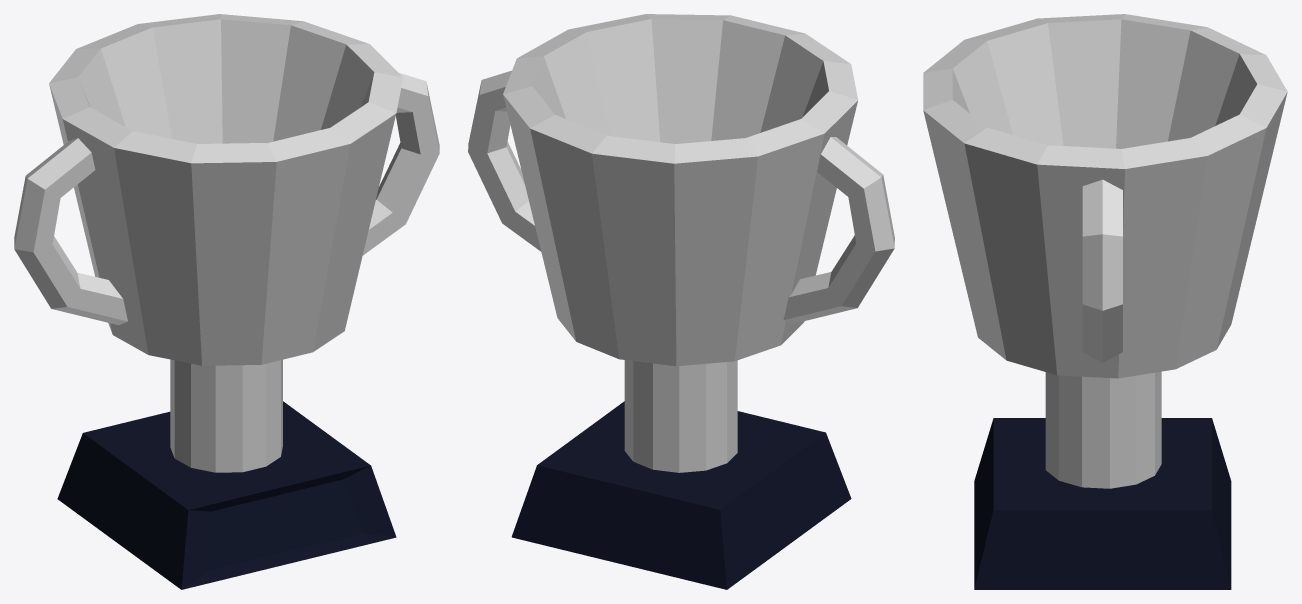
Rendered from SilverPoklaer.fbx.
The picture shows the model from 3 angles, left to right: view 1: azimuth 30°, elevation 25°; view 2: azimuth 150°, elevation 25°; view 3: azimuth 270°, elevation 25°; orthographic projection. The views are drawn at different scales.
Visible parts, largest first — view 1: Cylinder.001, Cube, BézierCurve; view 2: Cylinder.001, Cube, BézierCurve; view 3: Cylinder.001, Cube, BézierCurve.
Boxes of the visible parts, left/top/right/bottom form: Cylinder.001: left=49, top=14, right=403, bottom=472; Cube: left=57, top=401, right=396, bottom=589; BézierCurve: left=14, top=73, right=439, bottom=325; Cylinder.001: left=503, top=14, right=858, bottom=472; Cube: left=511, top=401, right=851, bottom=589; BézierCurve: left=468, top=70, right=894, bottom=324; Cylinder.001: left=923, top=14, right=1287, bottom=488; Cube: left=974, top=418, right=1231, bottom=589; BézierCurve: left=1082, top=179, right=1122, bottom=362.
Size of the model in its own units: 396 by 387 by 283.
